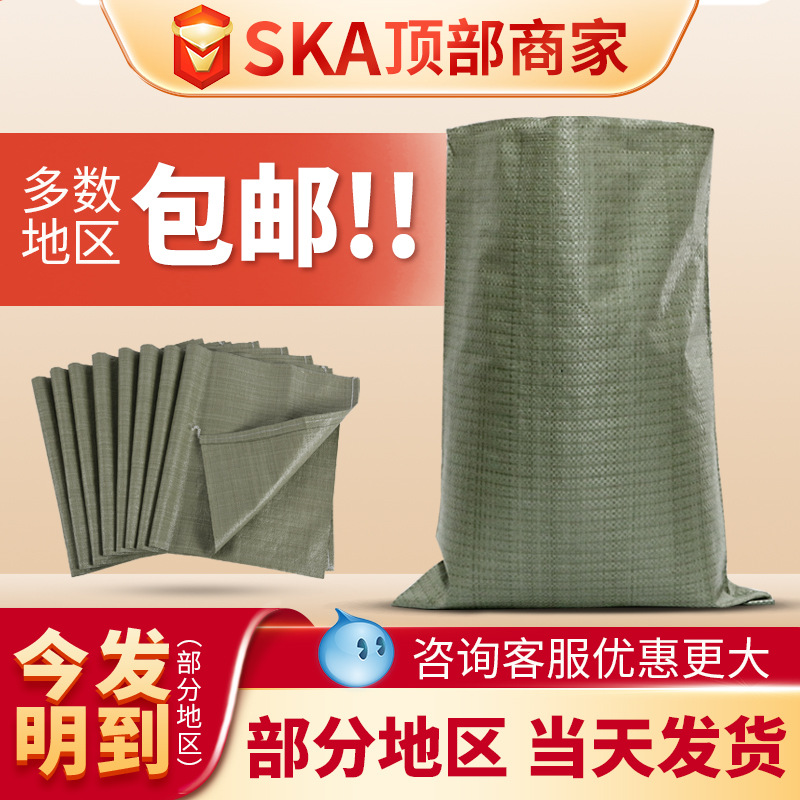塑料袋: (394, 117, 770, 608)
